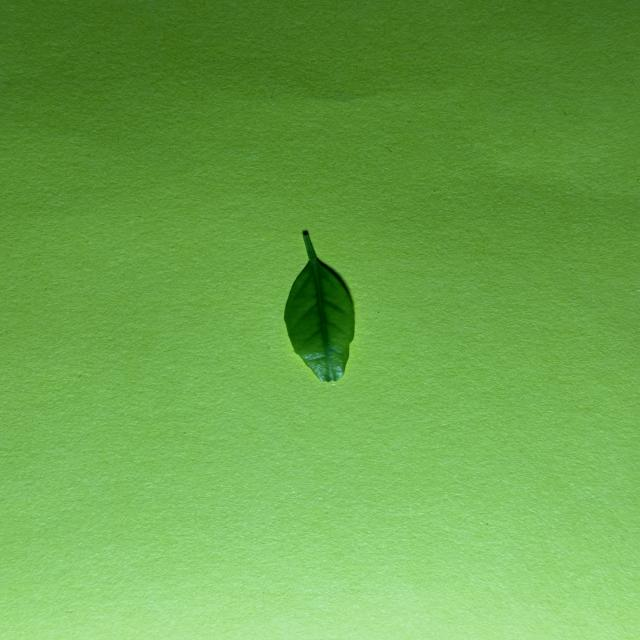greening: (284, 231, 354, 381)
